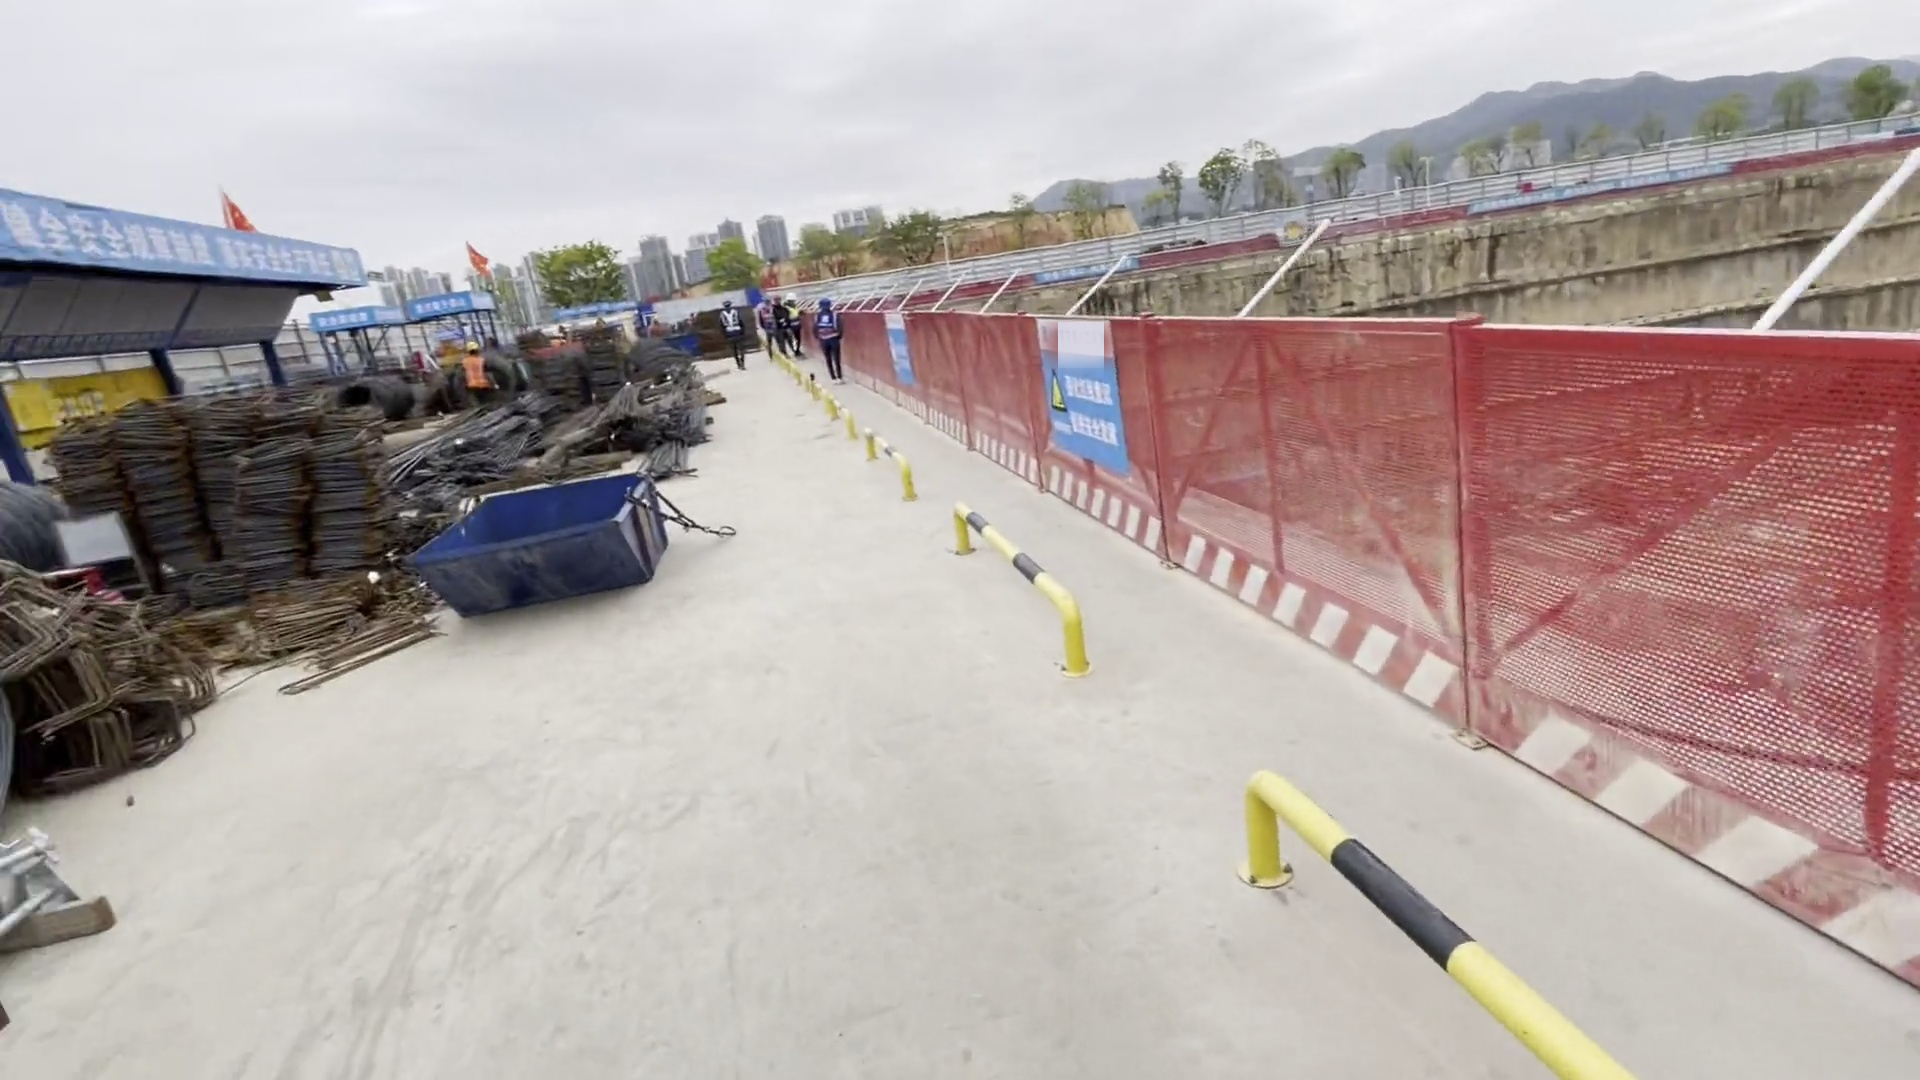ebox: (1, 376, 108, 425)
fence: (1160, 311, 1920, 968), (884, 303, 1041, 432)
helmet: (817, 300, 830, 309), (785, 292, 793, 300)
hopper: (388, 473, 669, 612)
person: (812, 297, 850, 384), (712, 297, 748, 371), (460, 344, 495, 402), (756, 297, 783, 362), (784, 298, 805, 357), (771, 294, 789, 358)
rebar: (578, 384, 714, 480), (382, 405, 544, 470)
slogan: (1, 203, 377, 288), (1021, 345, 1136, 474), (868, 305, 921, 387)
vest: (461, 356, 489, 389), (814, 311, 838, 344), (720, 310, 743, 336), (786, 306, 801, 327), (465, 342, 478, 354)
